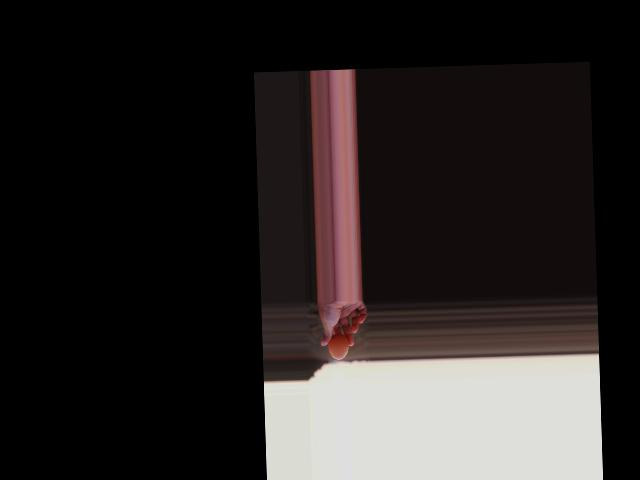egg: (328, 333, 349, 359)
